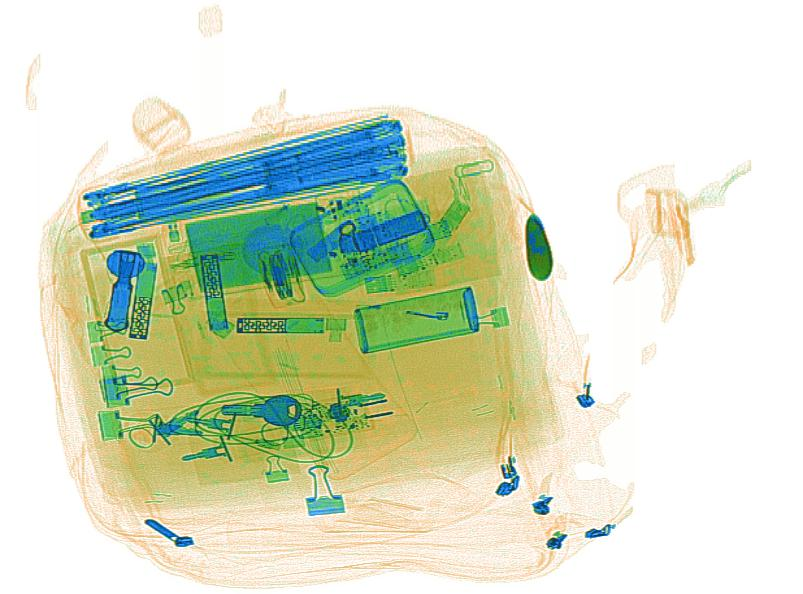USBFlashDisk: (339, 238, 428, 280), (350, 208, 427, 253), (125, 243, 156, 341), (200, 253, 233, 339), (393, 241, 465, 278), (235, 314, 351, 334), (429, 197, 470, 251), (363, 269, 436, 294)
